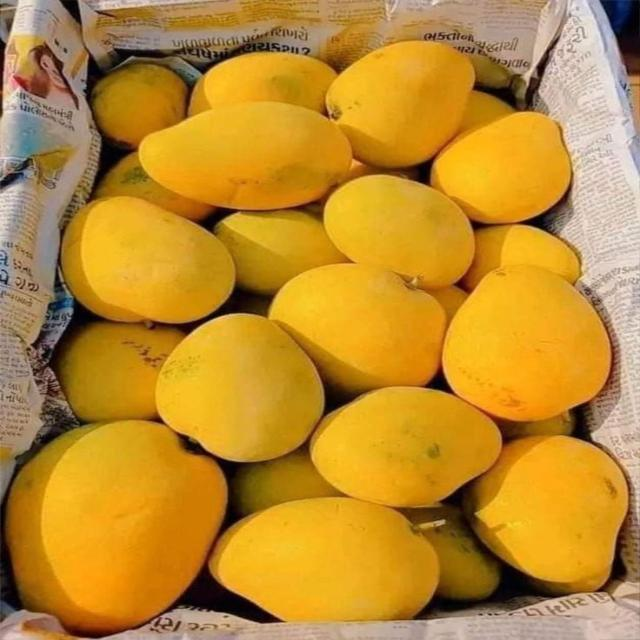mango: (6, 421, 226, 636), (209, 498, 438, 621), (443, 265, 610, 421), (157, 314, 324, 461), (465, 436, 627, 582), (270, 264, 446, 396), (311, 387, 501, 506), (140, 102, 351, 209), (61, 197, 234, 323), (327, 42, 473, 167), (324, 175, 473, 288), (431, 112, 571, 223), (54, 322, 184, 422), (214, 210, 347, 295), (60, 199, 145, 322), (402, 505, 500, 600), (94, 152, 214, 221), (91, 64, 187, 148), (204, 52, 336, 112), (461, 225, 580, 291), (230, 449, 341, 516), (524, 567, 611, 596), (458, 91, 514, 134), (497, 412, 575, 439), (343, 159, 419, 182), (467, 54, 513, 89), (427, 285, 467, 322), (232, 291, 272, 317), (187, 76, 210, 116)
